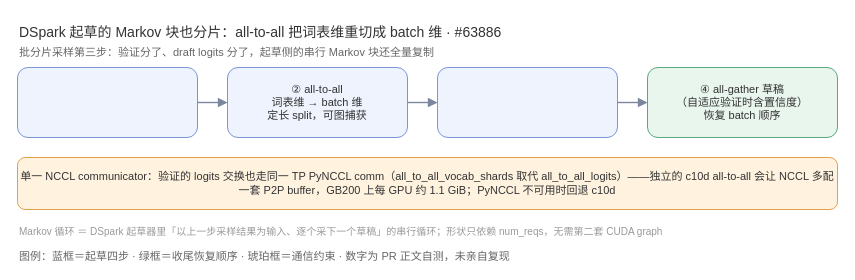
Image size: 855x280. Some labels were removed from this diagram. Each missing label, with the centre of its shape:
① 各 rank 算词表分片 所有请求、owner-major 排列 padding 槽读请求 0 的行再丢弃: (107,102)
③ Markov 循环 只跑自己请求的行 形状只依赖 num_reqs: (527,102)
